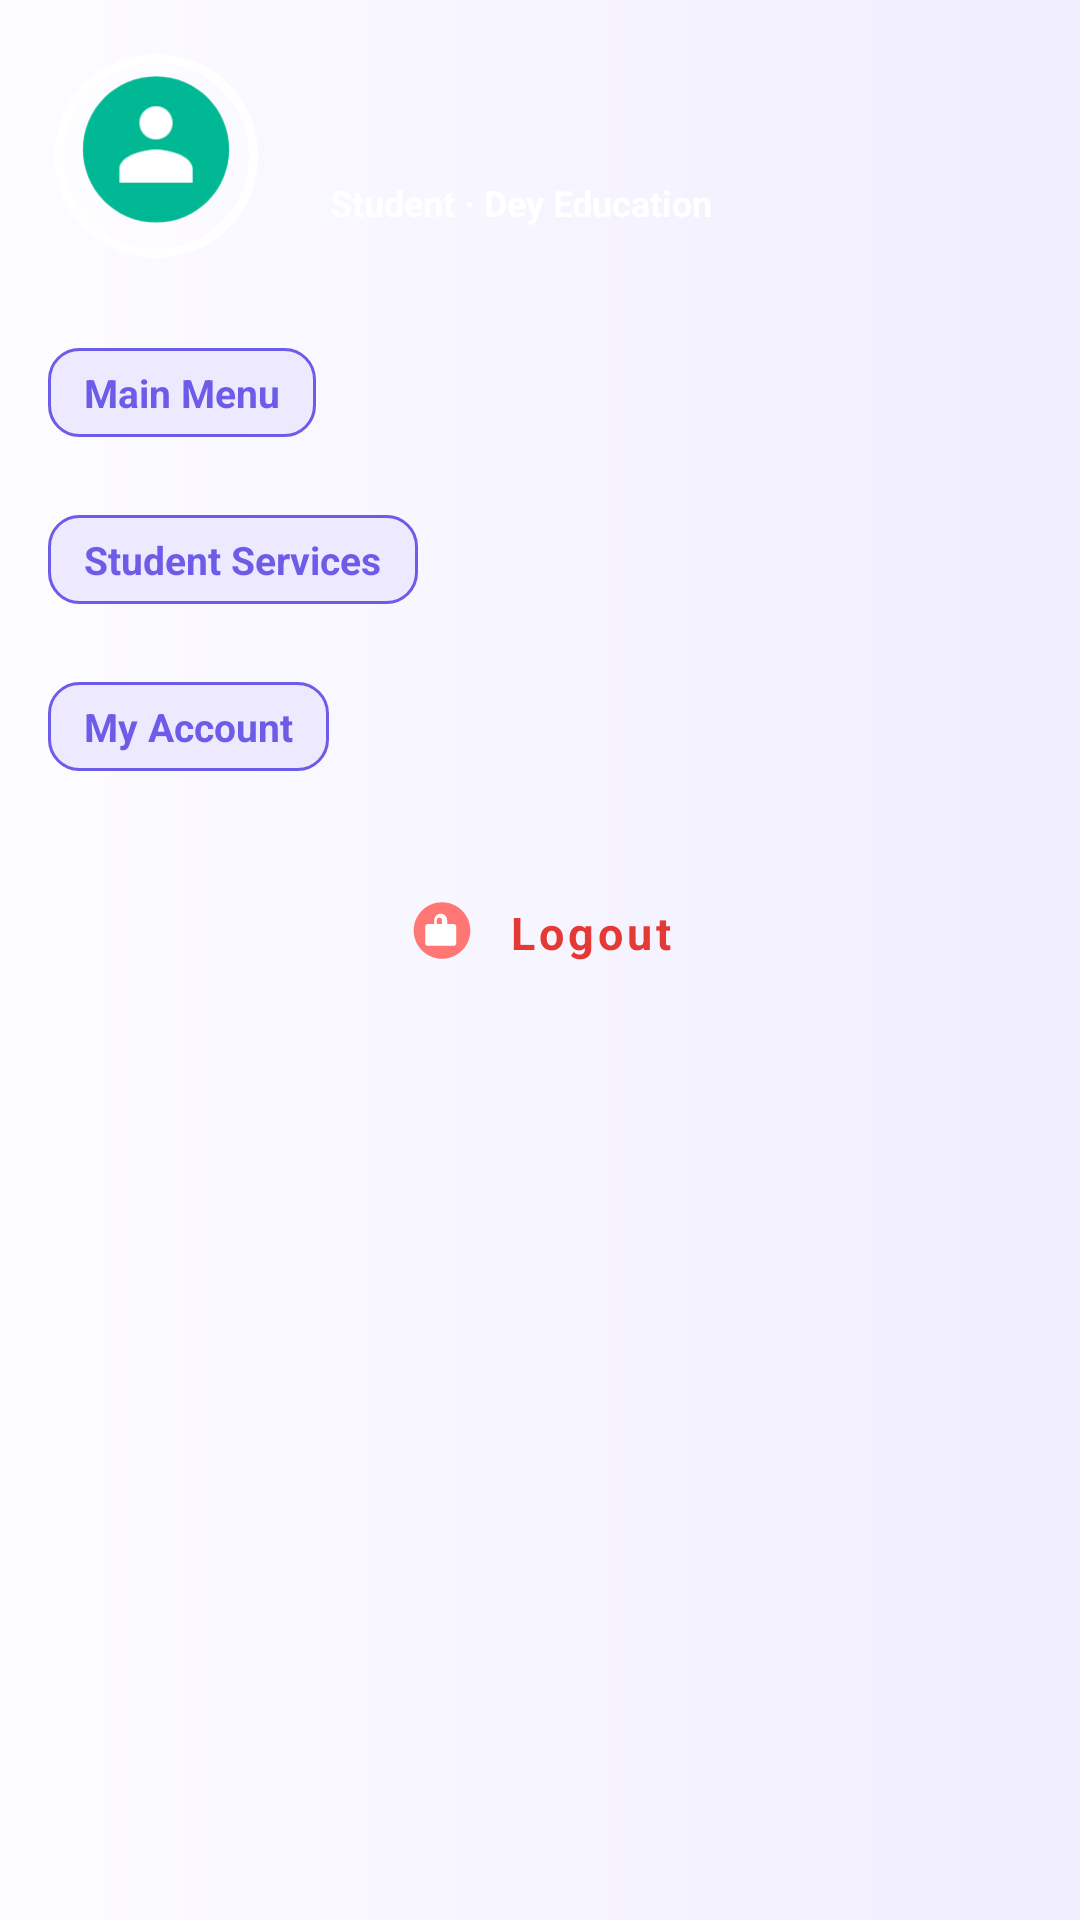

Point at icon controls on the screen. Image size 1080x1920, points as (x=x, y=y).
Profile: (x=156, y=149)
